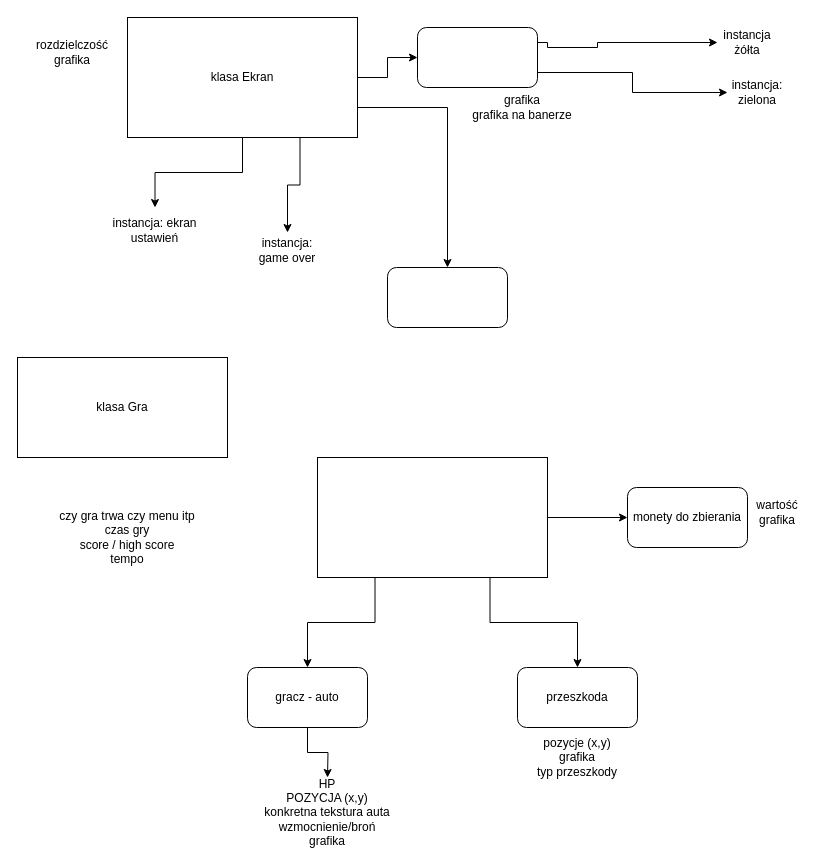
Image size: 825x866. Some labels were removed from this diagram. Here are the shapes that lost their labels. From the top down, the box of each, then its label:
(416, 26, 538, 88): klasa dziedzicząca: mapa
(386, 266, 508, 328): klasa dziedzicząca: garaż (wybór auta)
(316, 456, 548, 578): klasa pygame Sprite
